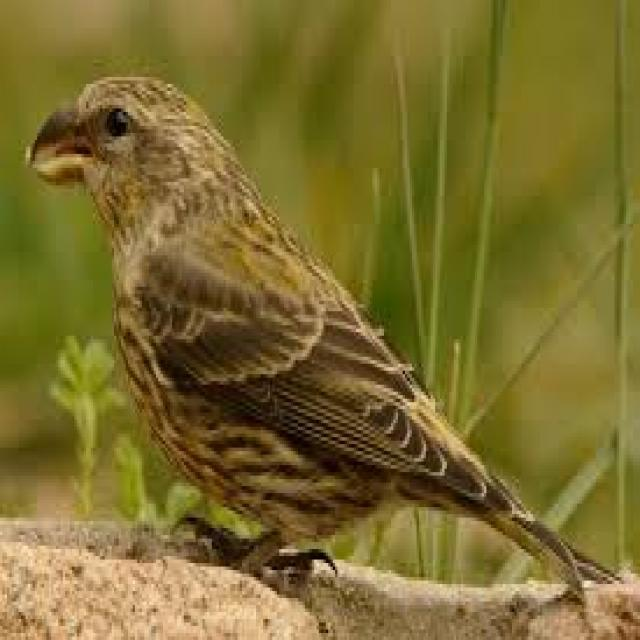bird: (6, 21, 608, 640)
